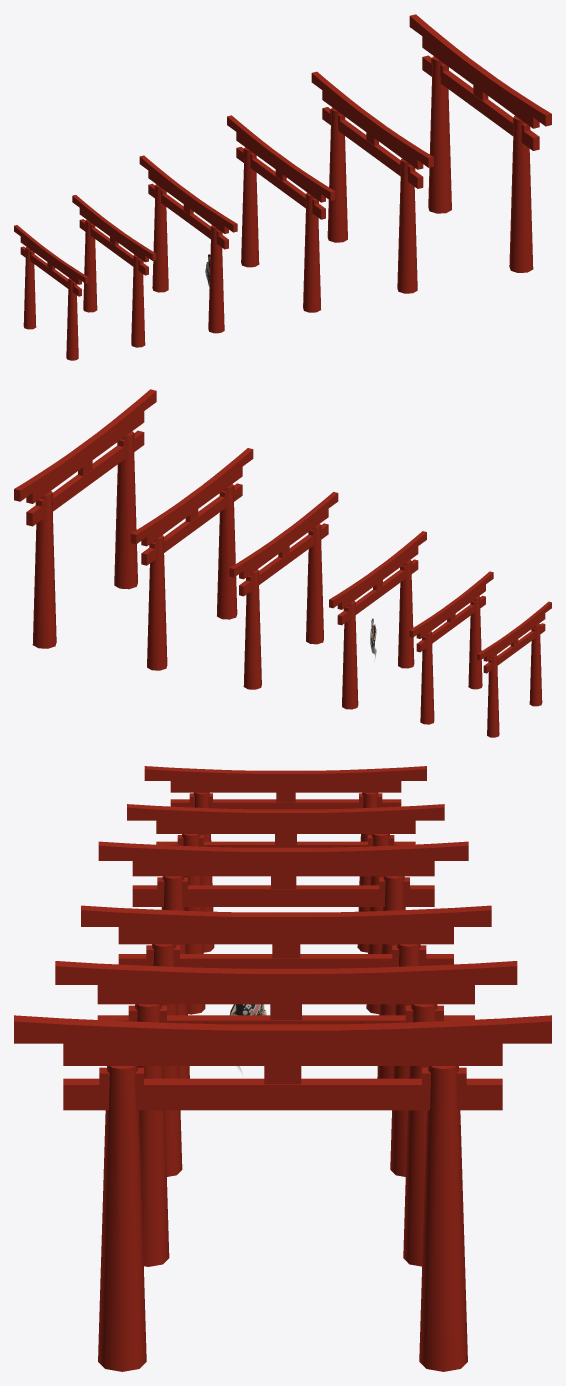
Rendered from gate_keelung.glb.
3 renders of one model, top to bottom at view 1: azimuth 30°, elevation 25°; view 2: azimuth 150°, elevation 25°; view 3: azimuth 270°, elevation 25°, orthographic. The views are drawn at different scales.
Parts seen in each view (by area): view 1: B2C2_599302_toriigate4, B2C2_599302_toriigate4.001, B2C2_599302_toriigate4.002, B2C2_599302_toriigate4.003, B2C2_599302_toriigate4.004, B2C2_599302_toriigate4.005; view 2: B2C2_599302_toriigate4, B2C2_599302_toriigate4.001, B2C2_599302_toriigate4.002, B2C2_599302_toriigate4.003, B2C2_599302_toriigate4.004, B2C2_599302_toriigate4.005; view 3: B2C2_599302_toriigate4, B2C2_599302_toriigate4.001, B2C2_599302_toriigate4.002, B2C2_599302_toriigate4.003, B2C2_599302_toriigate4.004, B2C2_599302_toriigate4.005.
Part boxes in pixels (left/top/right/bottom): B2C2_599302_toriigate4: left=409, top=14, right=551, bottom=272; B2C2_599302_toriigate4.001: left=311, top=71, right=433, bottom=293; B2C2_599302_toriigate4.002: left=227, top=115, right=335, bottom=312; B2C2_599302_toriigate4.003: left=139, top=155, right=237, bottom=333; B2C2_599302_toriigate4.004: left=72, top=195, right=156, bottom=347; B2C2_599302_toriigate4.005: left=14, top=225, right=88, bottom=360; B2C2_599302_toriigate4: left=14, top=389, right=156, bottom=648; B2C2_599302_toriigate4.001: left=130, top=448, right=253, bottom=670; B2C2_599302_toriigate4.002: left=229, top=492, right=338, bottom=689; B2C2_599302_toriigate4.003: left=329, top=531, right=426, bottom=709; B2C2_599302_toriigate4.004: left=409, top=571, right=493, bottom=724; B2C2_599302_toriigate4.005: left=477, top=601, right=551, bottom=737; B2C2_599302_toriigate4: left=14, top=1015, right=551, bottom=1371; B2C2_599302_toriigate4.001: left=55, top=961, right=517, bottom=1266; B2C2_599302_toriigate4.002: left=81, top=905, right=491, bottom=1176; B2C2_599302_toriigate4.003: left=98, top=841, right=468, bottom=1078; B2C2_599302_toriigate4.004: left=127, top=804, right=444, bottom=1014; B2C2_599302_toriigate4.005: left=144, top=766, right=426, bottom=952.
Size of the model in its own units: 46.22 by 17.23 by 24.46.
2 materials, 1 textured.
